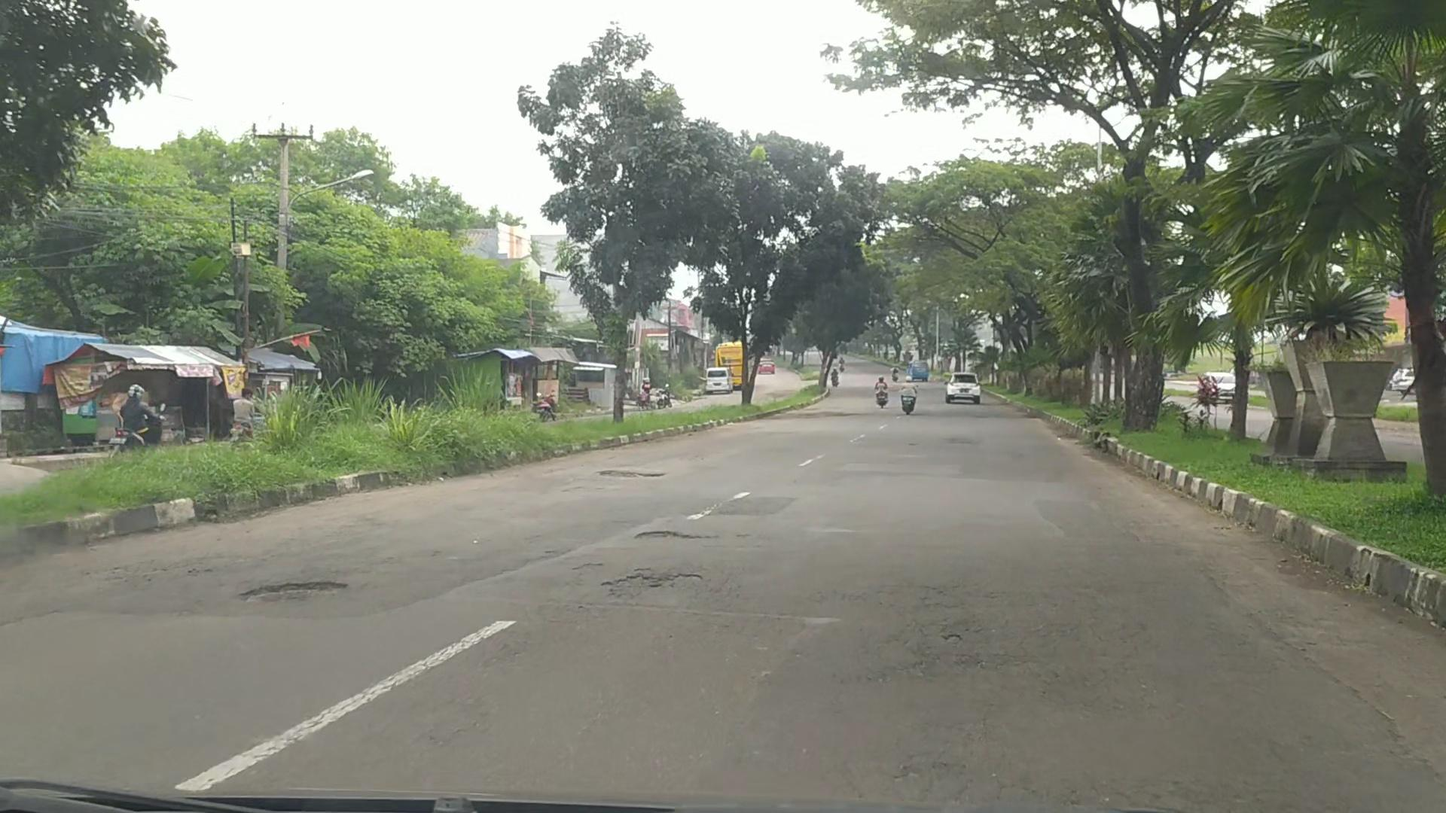pothole: (601, 570, 705, 601), (235, 580, 349, 604), (633, 529, 723, 542), (597, 469, 668, 479)
